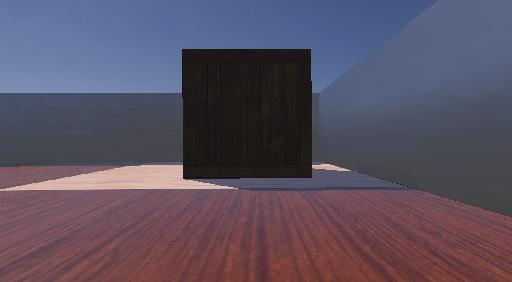WoodenBox: (164, 31, 331, 188)
